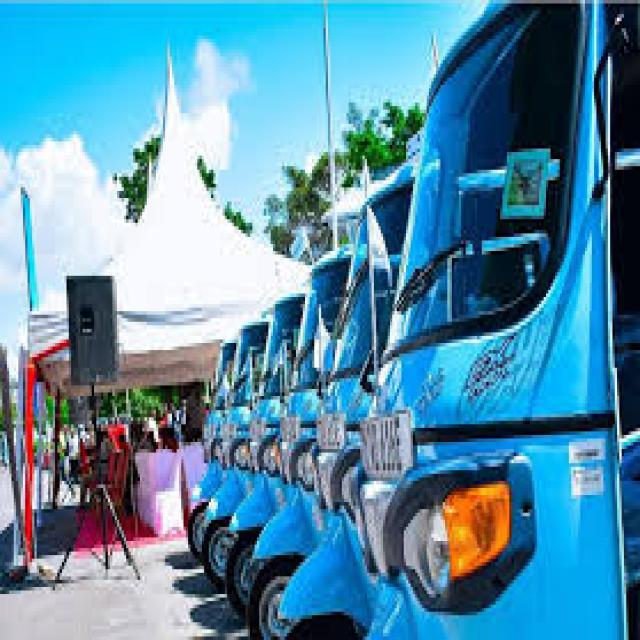tuktuk: (279, 0, 640, 640)
